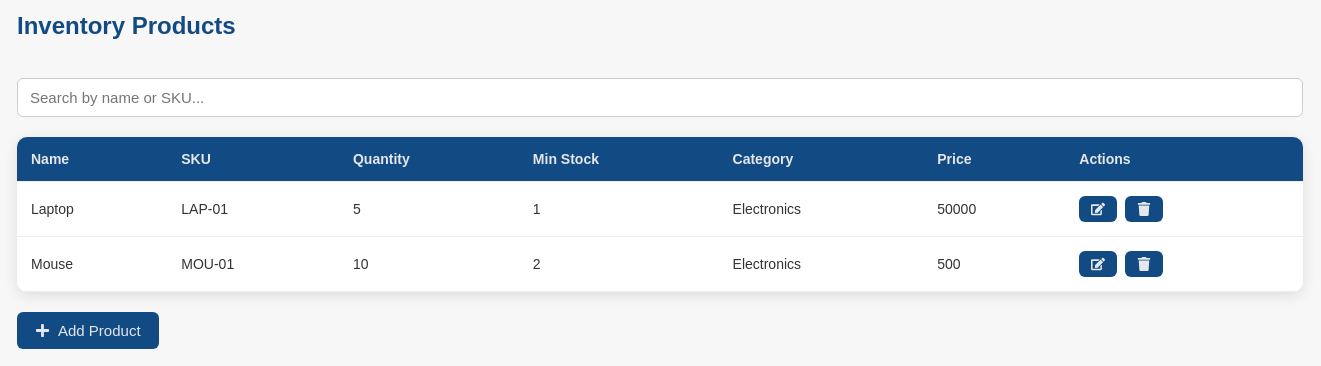
Test: search filters products by name or SKU
This screenshot has width=1321, height=366.
Expected: the text "Laptop" is shown, x1=17 y1=181 x2=167 y2=236
Type "Mouse" into the field with placeholder "Search by name or SKU..." at (660, 97), box x1=17 y1=78 x2=1303 y2=117
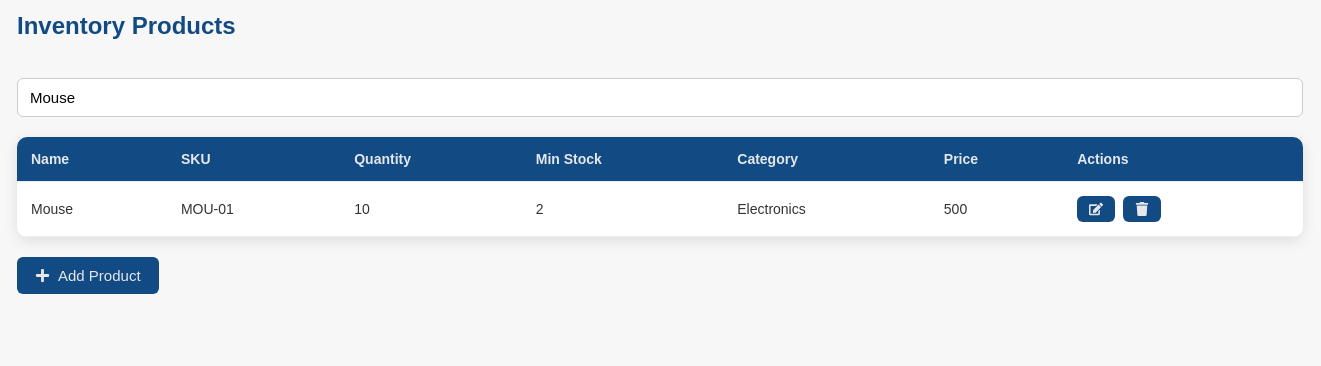
Expected: the text "Mouse" is shown, x1=17 y1=181 x2=167 y2=236
Expected: the text "Laptop" is gone
Replace the text in the field with placeholder "Search by name or SKU..." with "zzz" at (660, 97), box x1=17 y1=78 x2=1303 y2=117
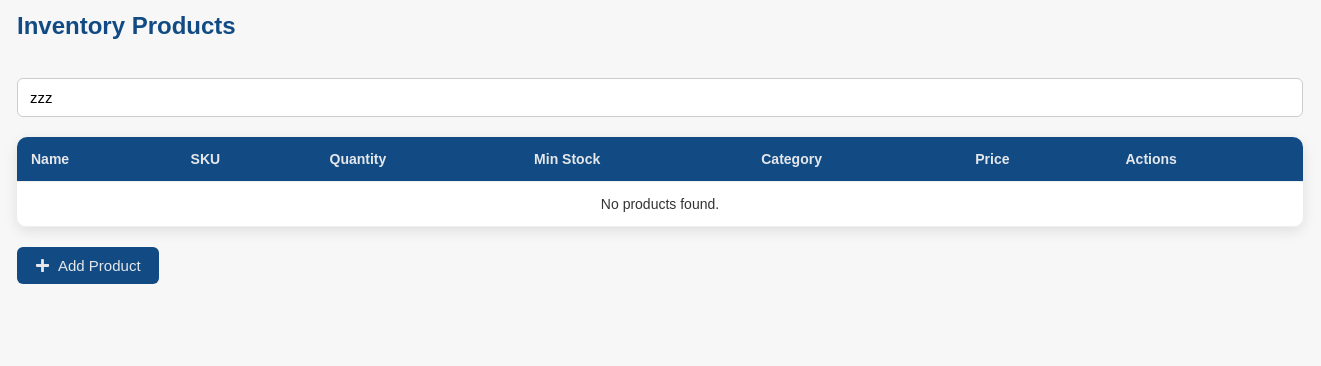
Expected: the text "No products found." is shown, x1=17 y1=181 x2=1303 y2=226
